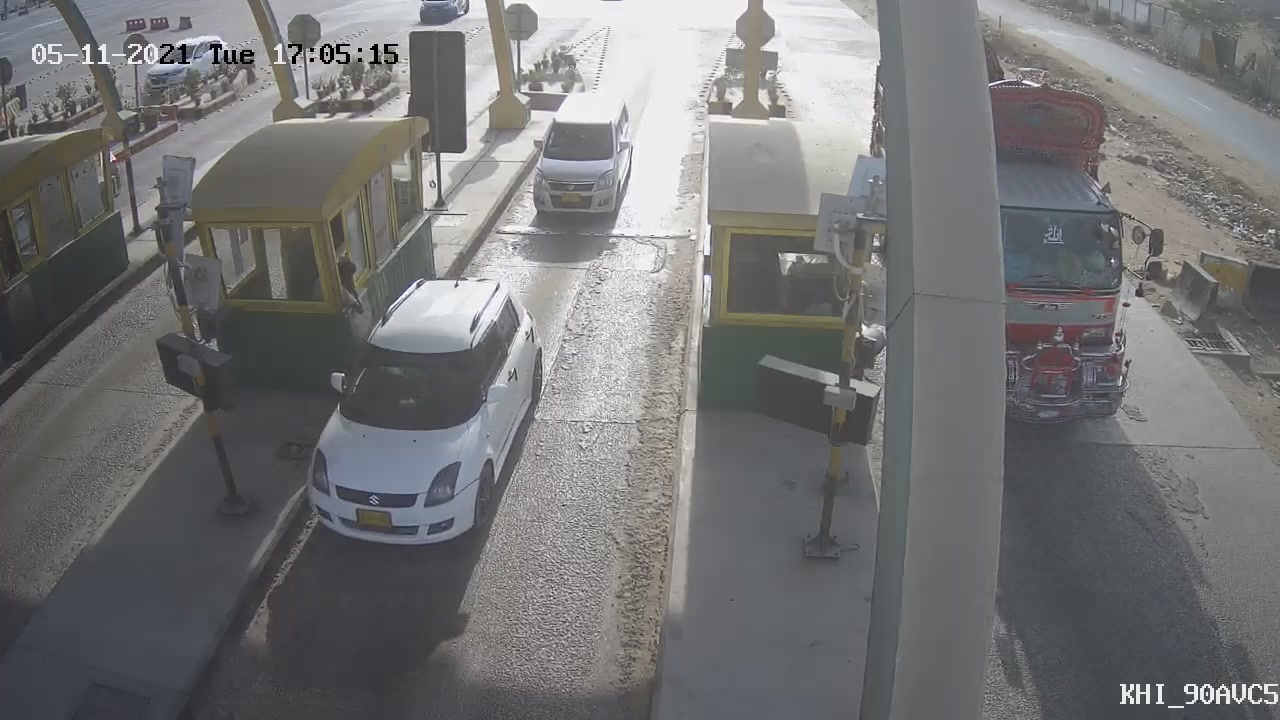F1: (297, 261, 552, 556), (509, 78, 649, 242)
